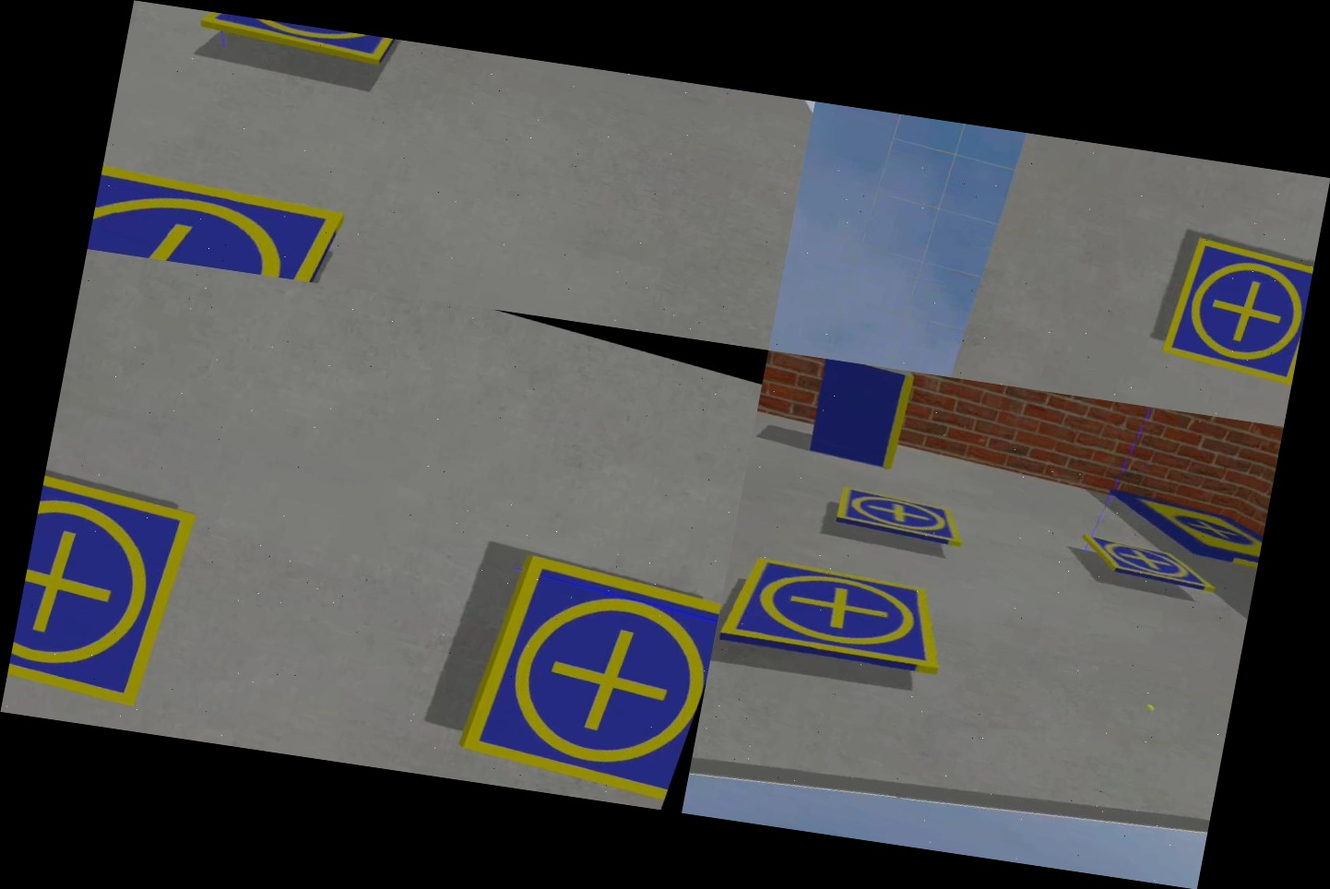large_base: (1090, 481, 1268, 582)
small_base: (454, 546, 725, 803), (4, 461, 209, 718), (712, 540, 967, 704), (87, 140, 360, 287), (1156, 230, 1316, 388), (197, 11, 409, 76), (1064, 527, 1224, 601), (827, 479, 977, 555)
